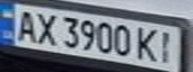0: (112, 23, 136, 57), (93, 19, 115, 55)
3: (57, 14, 81, 50)
9: (75, 17, 96, 52)
A: (9, 7, 42, 43)
I: (154, 28, 181, 65)
K: (133, 26, 160, 63)
X: (30, 10, 60, 46)
